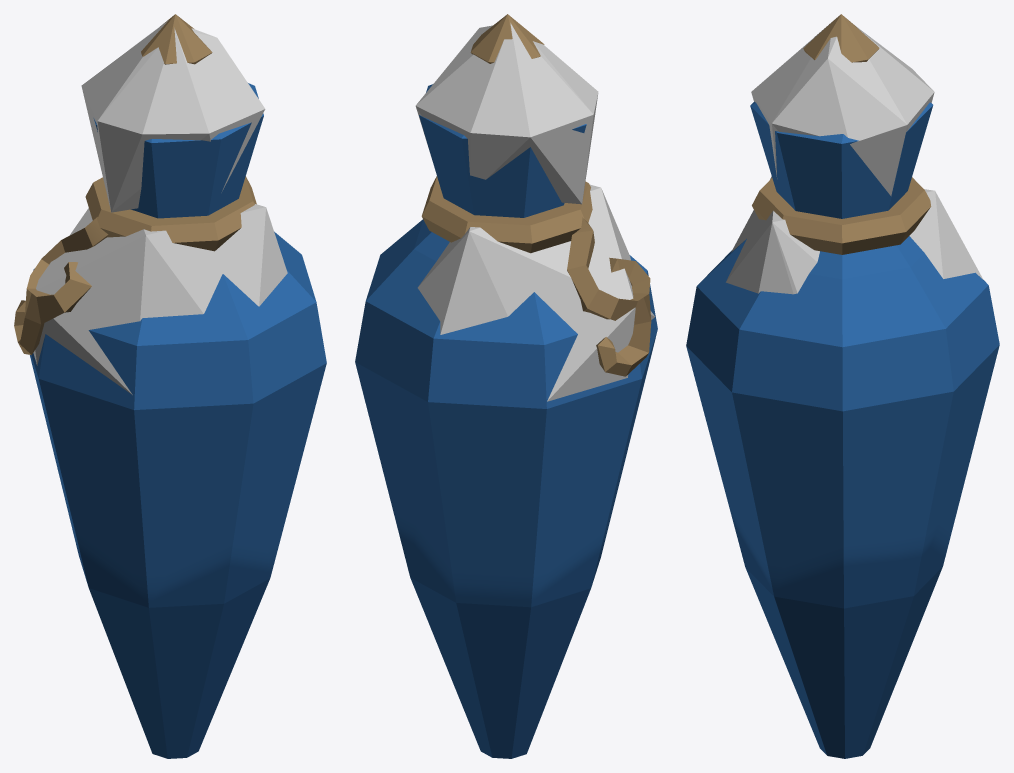
Rendered from SM_Item_Elixir_07.fbx.
3 renders of one model, left to right at view 1: azimuth 30°, elevation 25°; view 2: azimuth 150°, elevation 25°; view 3: azimuth 270°, elevation 25°, orthographic.
Visible parts, largest first — view 1: SM_Item_Elixir_07, SM_Item_Elixir_07_ConvexHulls; view 2: SM_Item_Elixir_07, SM_Item_Elixir_07_ConvexHulls; view 3: SM_Item_Elixir_07, SM_Item_Elixir_07_ConvexHulls.
Part boxes in pixels (x1,y1,x2,y2): SM_Item_Elixir_07: [14, 14, 326, 758]; SM_Item_Elixir_07_ConvexHulls: [33, 20, 287, 394]; SM_Item_Elixir_07: [355, 14, 657, 758]; SM_Item_Elixir_07_ConvexHulls: [415, 23, 654, 401]; SM_Item_Elixir_07: [686, 14, 999, 758]; SM_Item_Elixir_07_ConvexHulls: [726, 25, 983, 294].
Bounding box in the file's own units: 15.84 × 15.12 × 39.54.
Materials: 2 (1 with a texture image).
